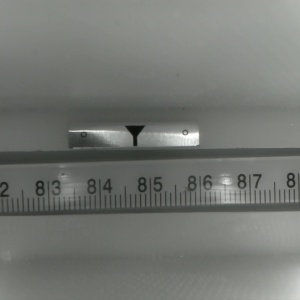2: (0, 180, 9, 197)
3: (50, 179, 61, 195)
4: (102, 178, 112, 193)
5: (152, 176, 162, 192)
6: (201, 175, 211, 190)
7: (252, 174, 261, 188)
8: (86, 178, 96, 194), (34, 180, 44, 196), (236, 174, 246, 189), (136, 177, 146, 192), (186, 176, 196, 191), (286, 172, 295, 188)
finger: (122, 125, 145, 146)
